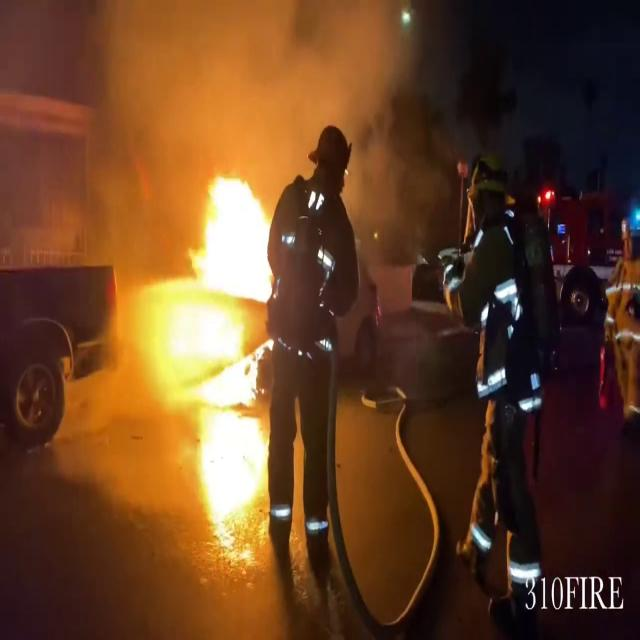Fire: (147, 160, 282, 557)
Smoke: (41, 1, 459, 227)
